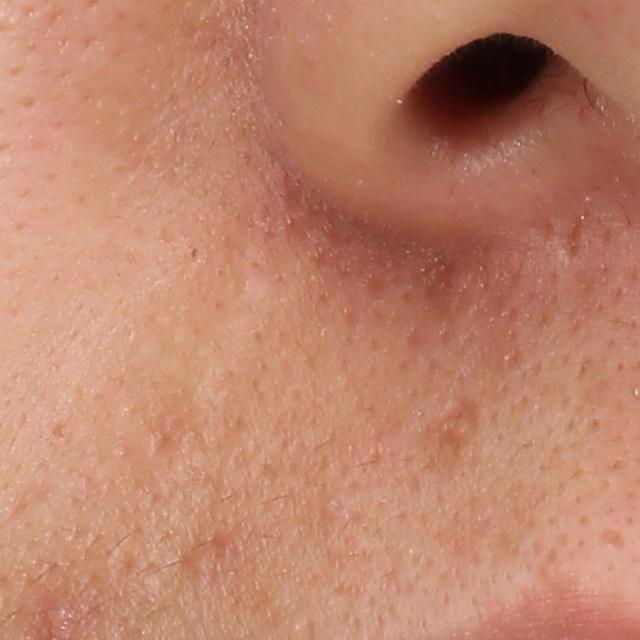atrophic_scar: (418, 391, 491, 474), (564, 210, 581, 265), (598, 526, 632, 550)
papule: (182, 545, 218, 576)
